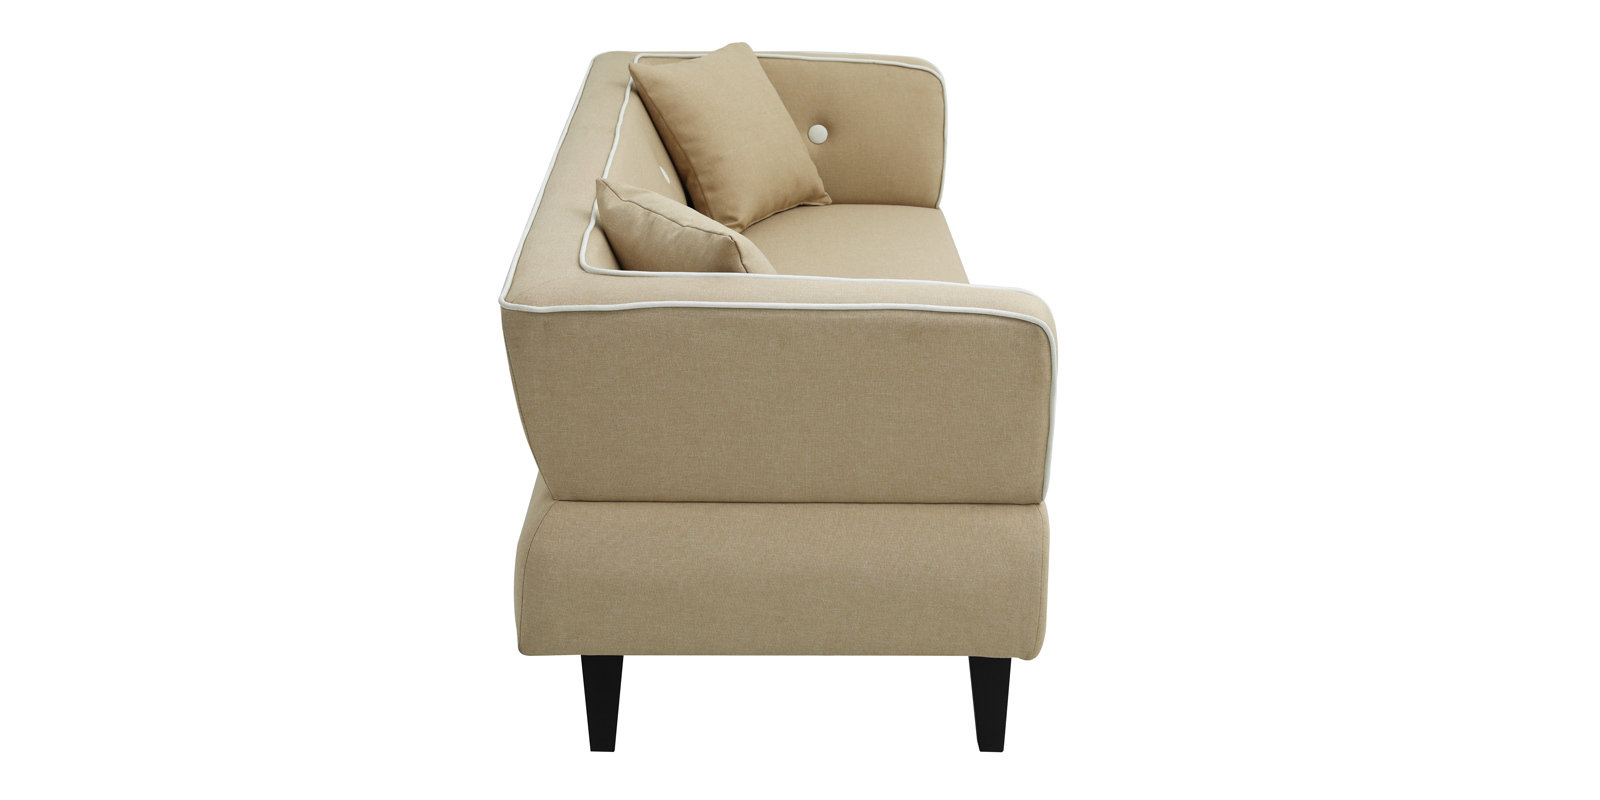Dime Three Seater Sofa in Beige Colour by Zofa: (486, 32, 1095, 772)
